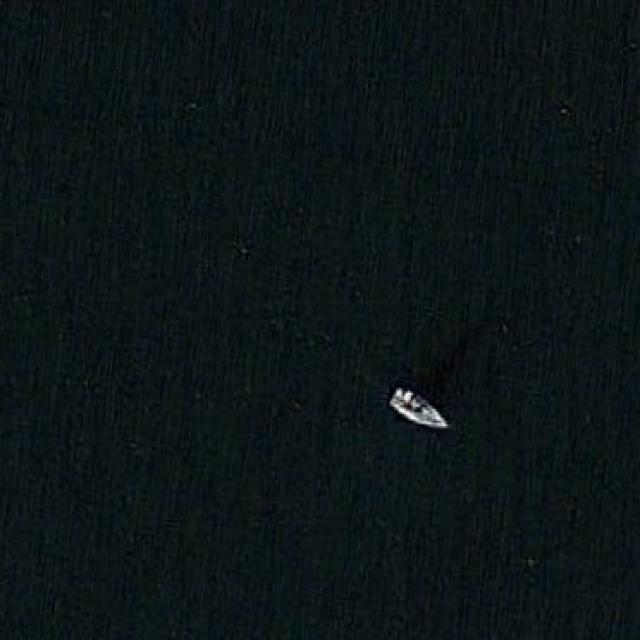boat: (385, 386, 451, 431)
